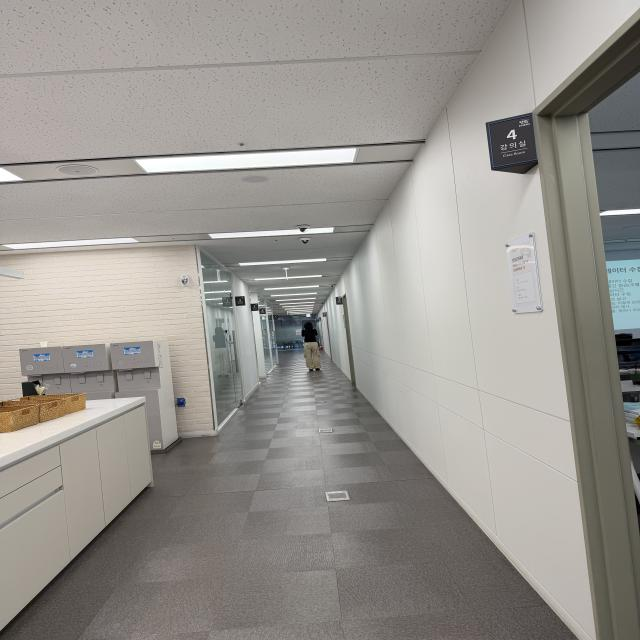sign: (488, 116, 536, 167)
